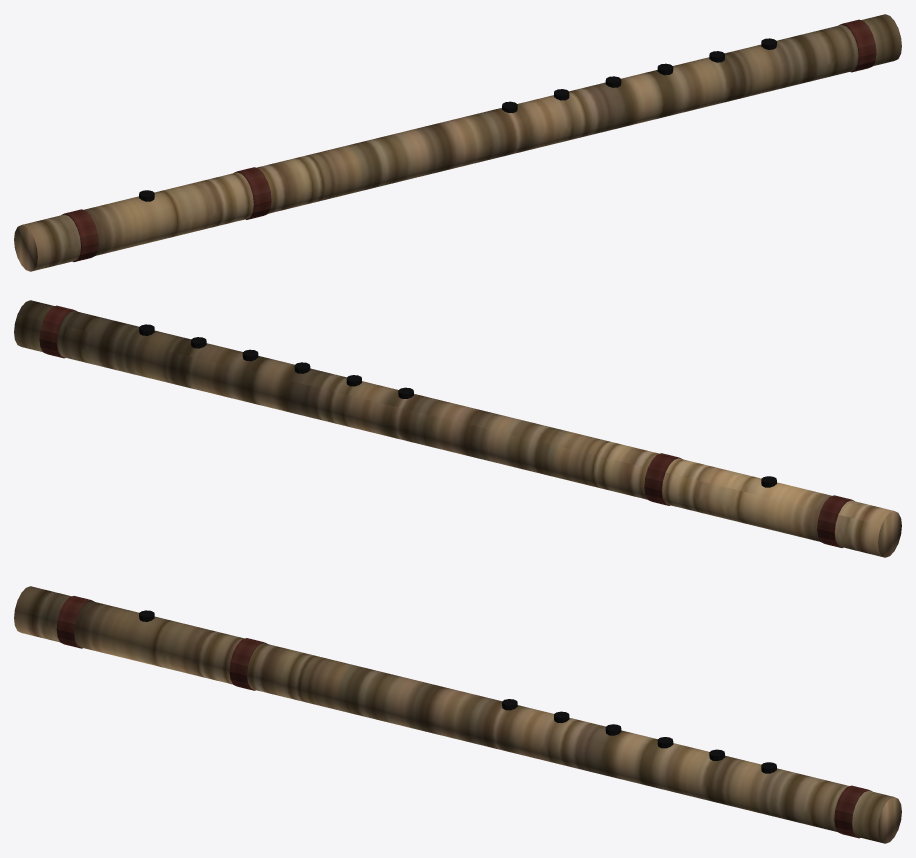
File: MU06_Flute.glb
3 views of the same model, one above another, from view 1: azimuth 30°, elevation 25°; view 2: azimuth 150°, elevation 25°; view 3: azimuth 330°, elevation 25° (orthographic).
Parts seen in each view (by area): view 1: MU06_Flute; view 2: MU06_Flute; view 3: MU06_Flute.
Part boxes in pixels (box(x1,y1,x2,y2)): MU06_Flute: box(14, 14, 901, 271); MU06_Flute: box(14, 300, 901, 557); MU06_Flute: box(14, 586, 901, 843).
Size of the model in its own units: 0.5 by 0.0265 by 0.025.
Materials: 3 (3 with a texture image).
